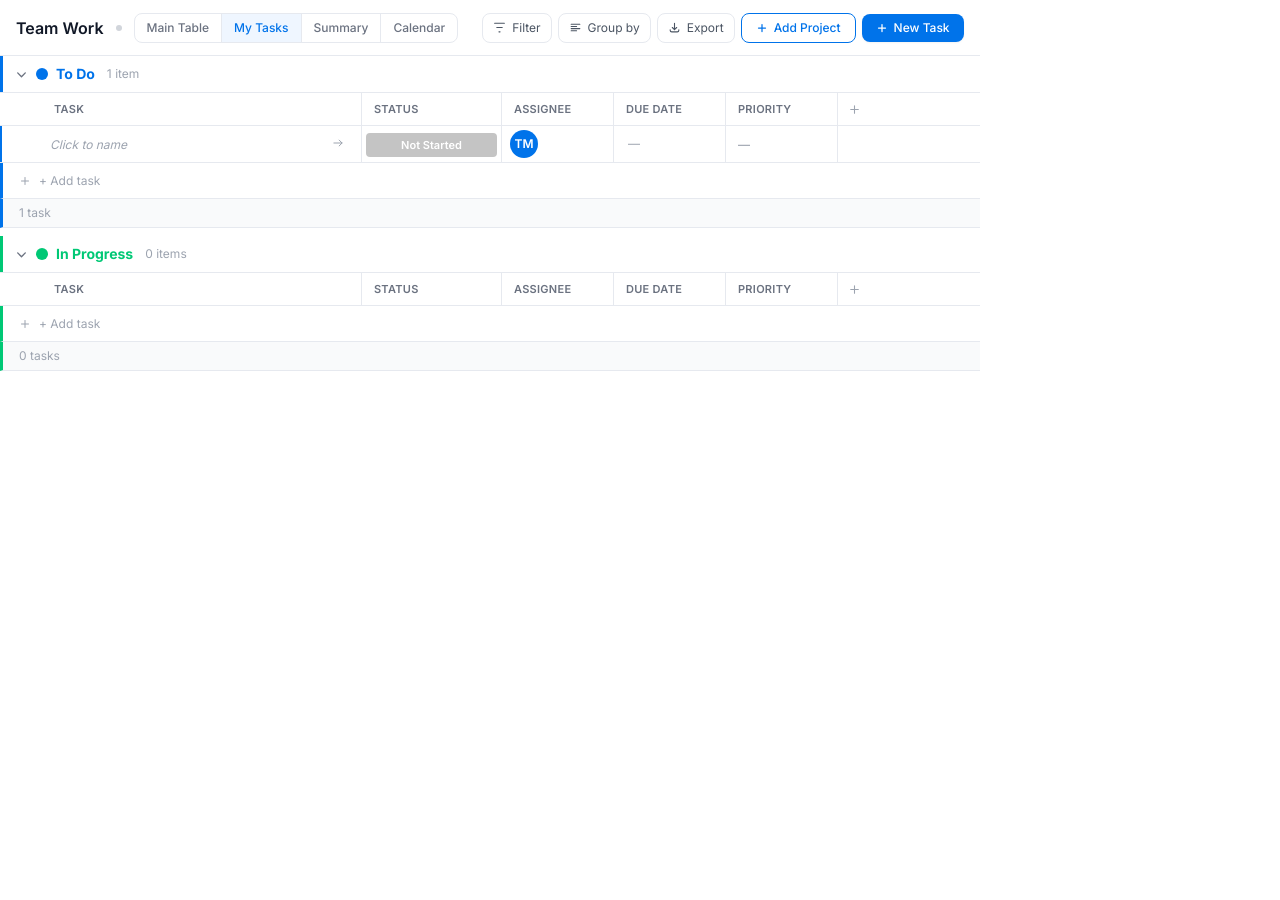
Test: moving tasks between projects through the board UI › lets an unnamed task be named inline before opening its details
Click the button "Click to name". click: (89, 144)
box: [50, 134, 323, 154]
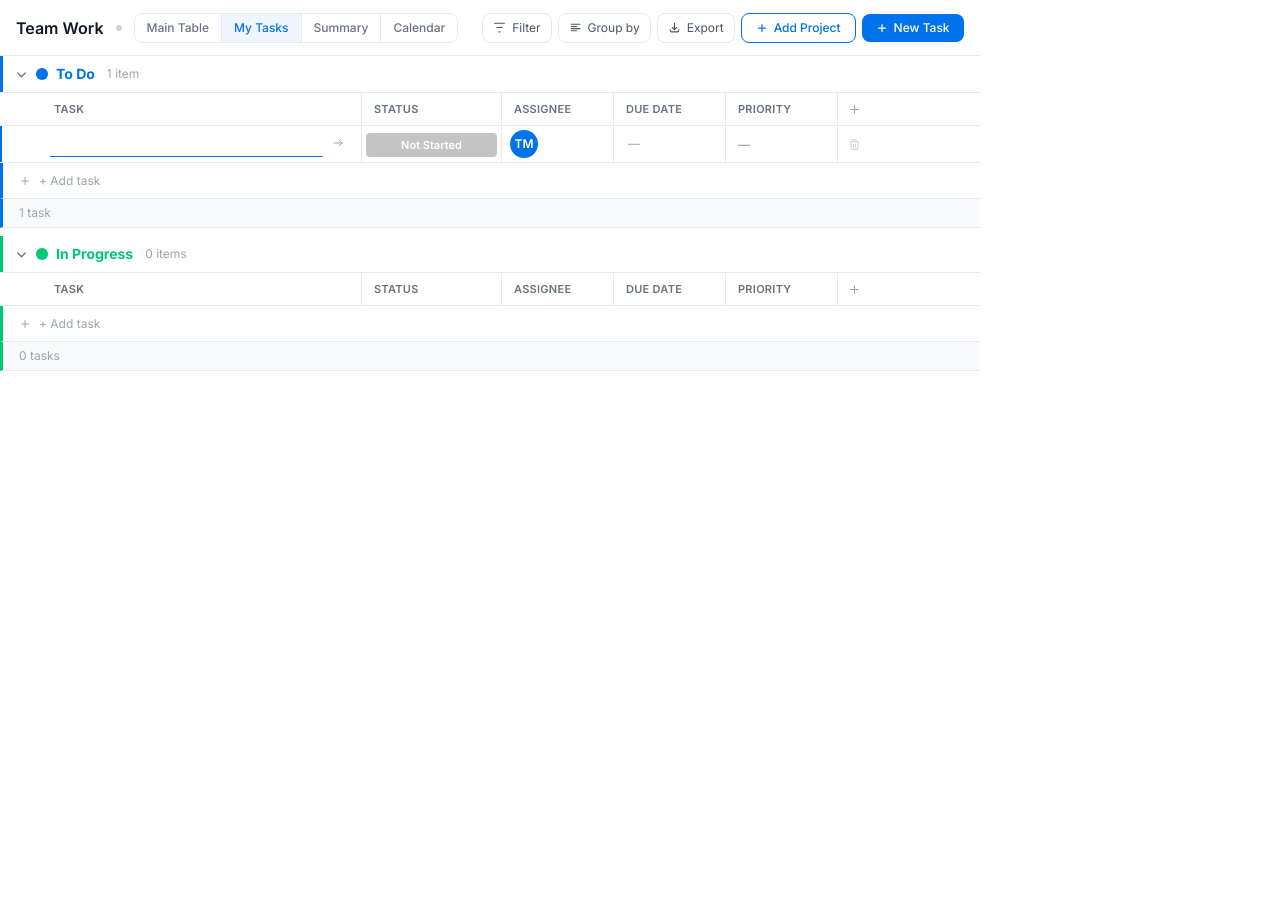
Type "Prepare shipping plan" into the field named "Task name". click: (186, 144)
box: [50, 132, 323, 156]
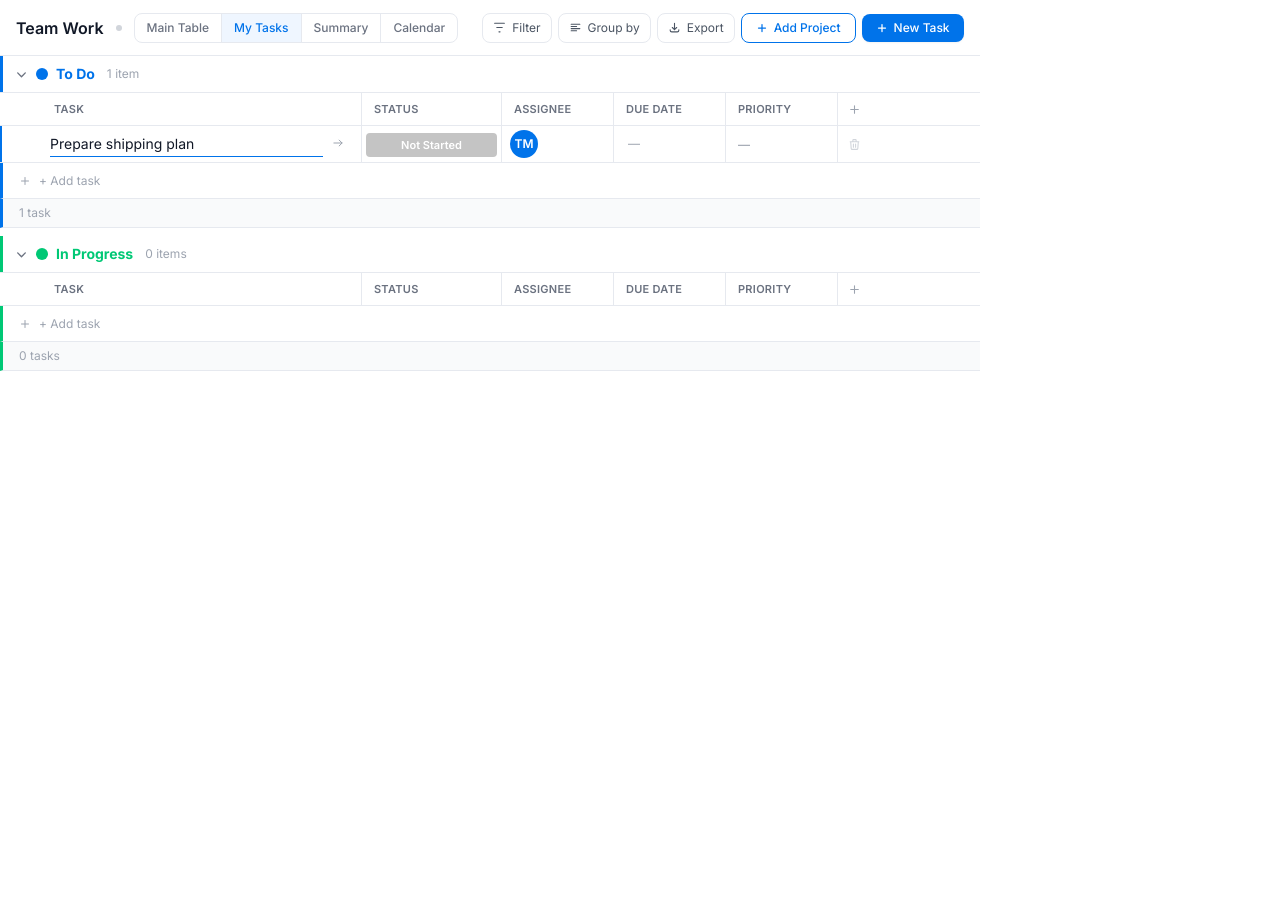
Press Enter in the field named "Task name", box [50, 132, 323, 156]
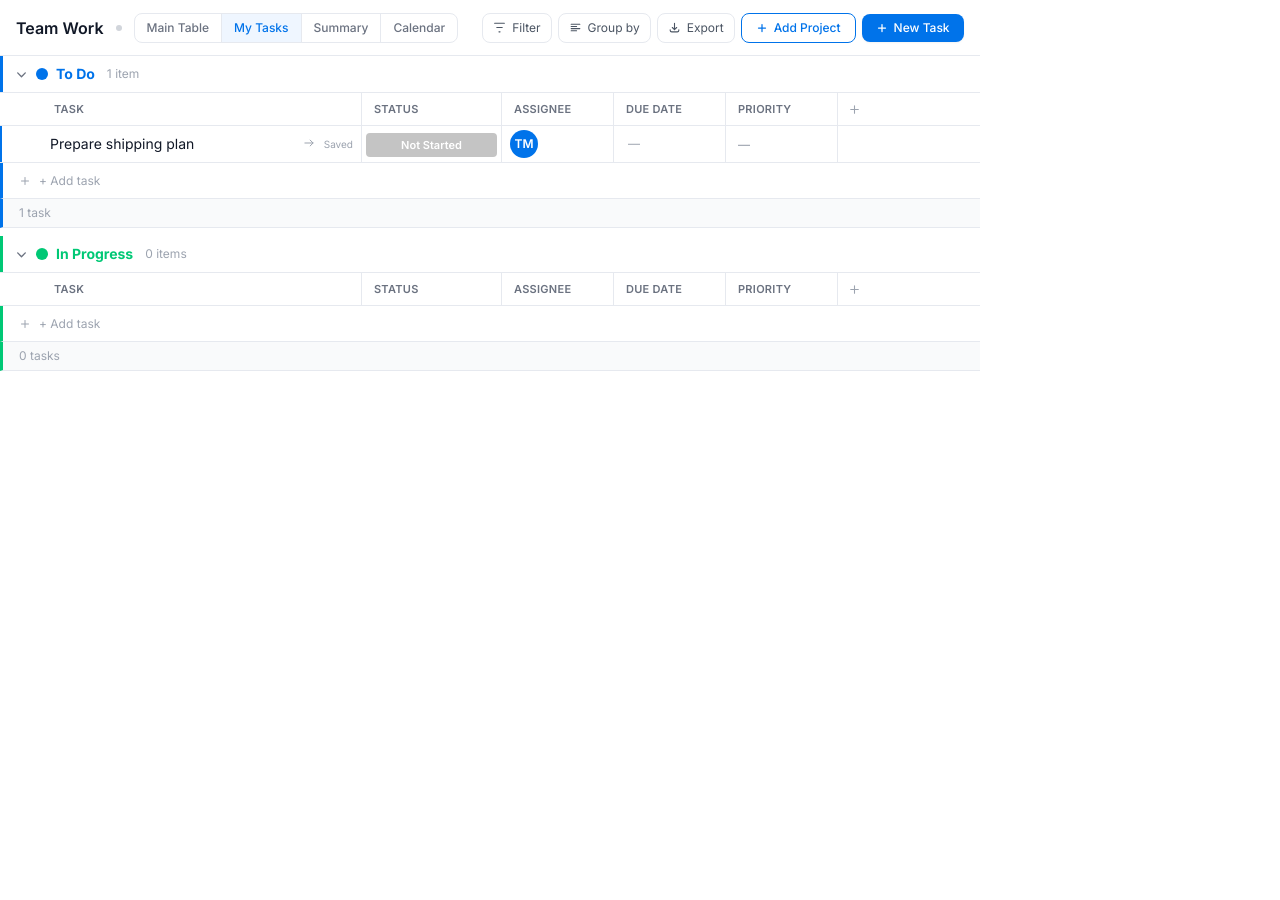
Expected: the text "Task Details" is not shown
Click the button "Prepare shipping plan". click: (172, 144)
box: [50, 134, 294, 154]
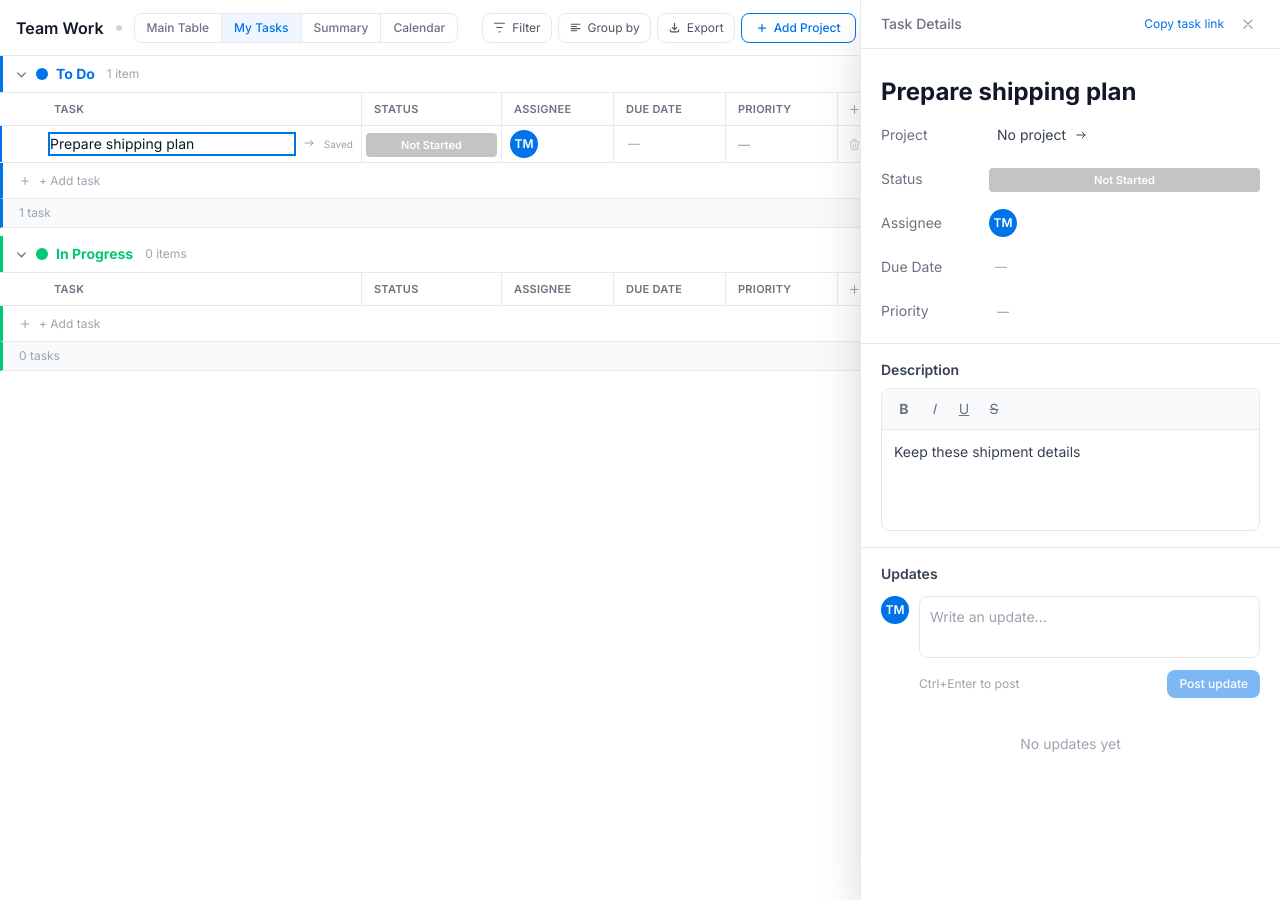
Expected: the text "Task Details" is shown, [881, 14, 962, 34]
